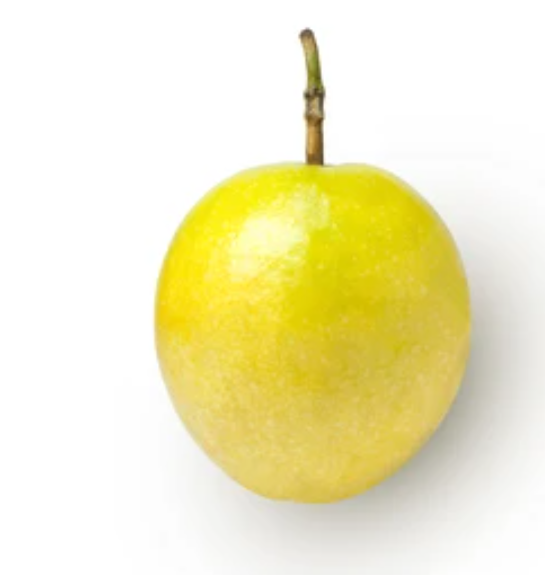maracuya: (138, 140, 478, 526)
